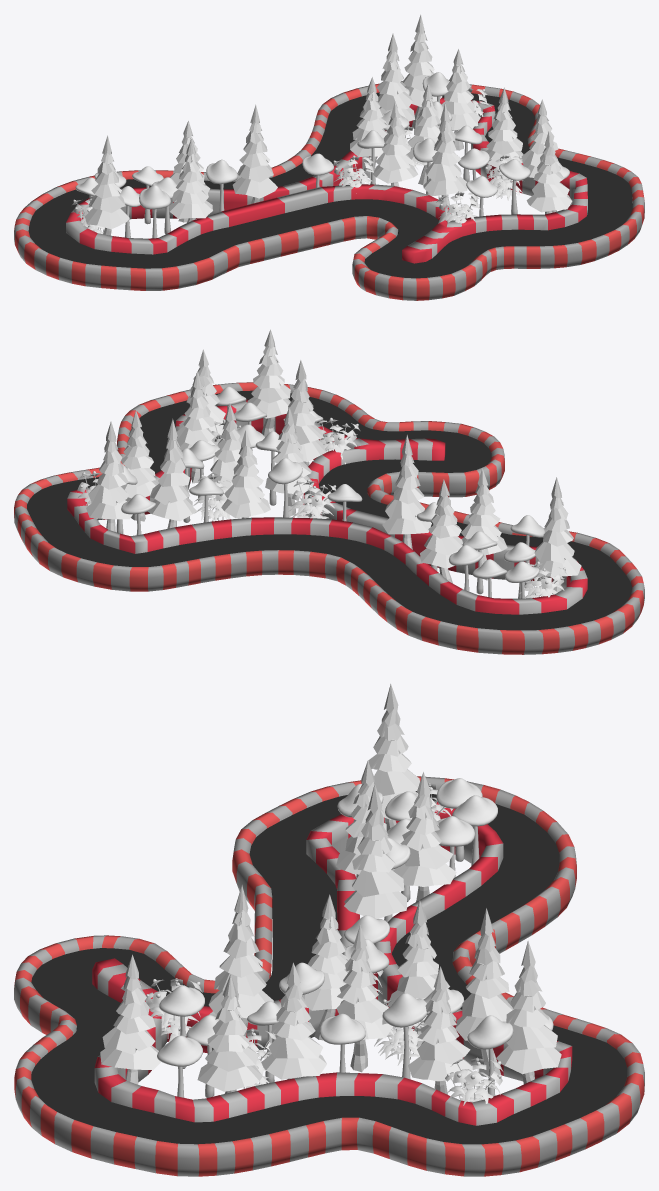
File: CIRCUIITOOOOO.fbx
The picture shows the model from 3 angles, top to bottom: view 1: azimuth 30°, elevation 25°; view 2: azimuth 150°, elevation 25°; view 3: azimuth 270°, elevation 25°; orthographic projection. The views are drawn at different scales.
Parts seen in each view (by area): view 1: Plane, Plane.001, Plane.002, Cylinder.009, Cylinder.003, Cylinder.001, Cylinder.002, Cylinder.010, Cylinder.013, Cylinder.007, Cylinder.005, Cylinder.006 (+13 smaller); view 2: Plane.001, Plane, Plane.002, Cylinder.001, Cylinder.005, Cylinder.006, Cylinder.003, Cylinder.004, Cylinder.010, Cylinder.014, Cylinder.009, Cylinder.007 (+10 smaller); view 3: Plane, Plane.001, Plane.002, Cylinder.006, Cylinder.001, Cylinder.010, Cylinder.011, Cylinder.008, Cylinder.007, Cylinder.009, Cylinder.014, Cylinder.005 (+15 smaller).
Part boxes in pixels (x1,y1,x2,y2): Plane: [28, 92, 632, 278]; Plane.001: [14, 81, 644, 300]; Plane.002: [66, 97, 587, 263]; Cylinder.009: [423, 103, 467, 205]; Cylinder.003: [84, 135, 129, 235]; Cylinder.001: [232, 104, 277, 203]; Cylinder.002: [169, 139, 212, 222]; Cylinder.010: [526, 131, 572, 214]; Cylinder.013: [372, 102, 417, 186]; Cylinder.007: [441, 49, 480, 150]; Cylinder.005: [376, 33, 415, 121]; Cylinder.006: [402, 14, 442, 128]; Plane.001: [14, 382, 644, 654]; Plane: [27, 390, 632, 630]; Plane.002: [67, 399, 587, 614]; Cylinder.001: [382, 434, 431, 549]; Cylinder.005: [148, 418, 197, 528]; Cylinder.006: [86, 421, 132, 531]; Cylinder.003: [532, 477, 581, 591]; Cylinder.004: [221, 429, 270, 518]; Cylinder.010: [247, 329, 290, 436]; Cylinder.014: [420, 479, 462, 583]; Cylinder.009: [283, 360, 325, 462]; Cylinder.007: [121, 410, 157, 521]; Plane: [31, 791, 627, 1144]; Plane.001: [14, 776, 644, 1176]; Plane.002: [92, 800, 572, 1125]; Cylinder.006: [496, 940, 561, 1084]; Cylinder.001: [344, 784, 406, 918]; Cylinder.010: [100, 954, 161, 1084]; Cylinder.011: [261, 962, 326, 1079]; Cylinder.008: [197, 974, 262, 1093]; Cylinder.007: [408, 966, 472, 1094]; Cylinder.009: [208, 885, 273, 1036]; Cylinder.014: [393, 772, 456, 901]; Cylinder.005: [455, 908, 513, 1077].
Size of the model in its own units: 2682 by 580 by 1911.
